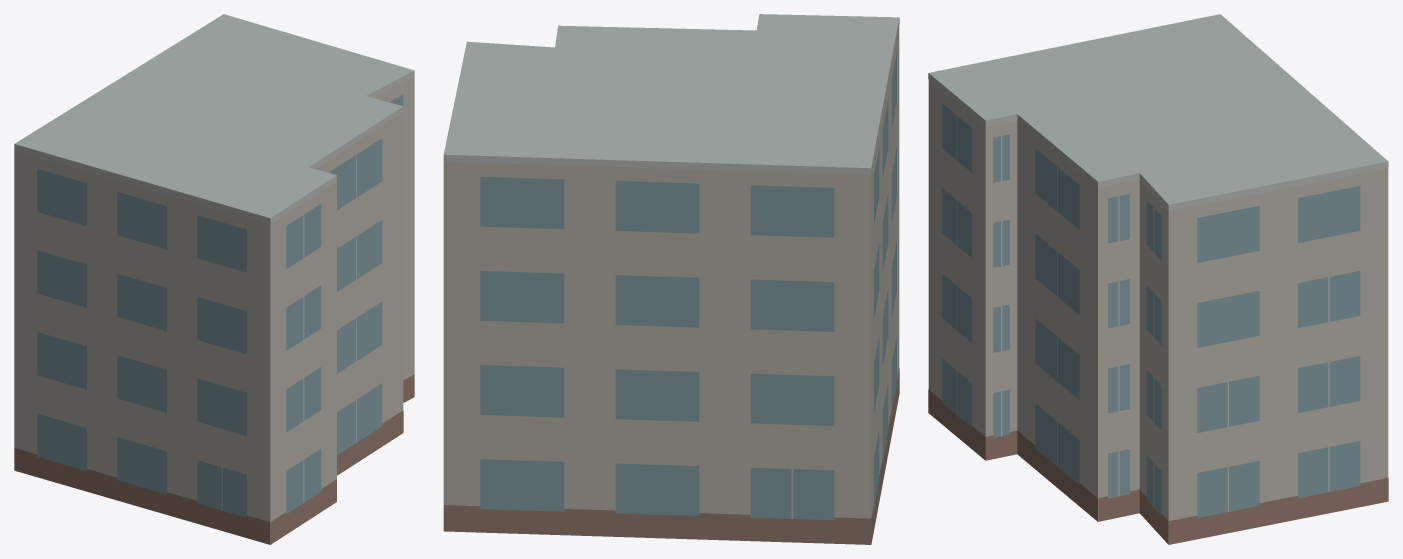
The model's file is survey-upis-33037790.glb.
3 renders of one model, left to right at view 1: azimuth 30°, elevation 25°; view 2: azimuth 150°, elevation 25°; view 3: azimuth 270°, elevation 25°, orthographic. The views are drawn at different scales.
Visible parts, largest first — view 1: survey-upis-33037790.tmp; view 2: survey-upis-33037790.tmp; view 3: survey-upis-33037790.tmp.
Boxes of the visible parts, <box> form: survey-upis-33037790.tmp: <box>14,14,414,544</box>; survey-upis-33037790.tmp: <box>443,14,899,544</box>; survey-upis-33037790.tmp: <box>928,14,1388,544</box>.
Bounding box in the file's own units: 15.65 × 13 × 15.95.
